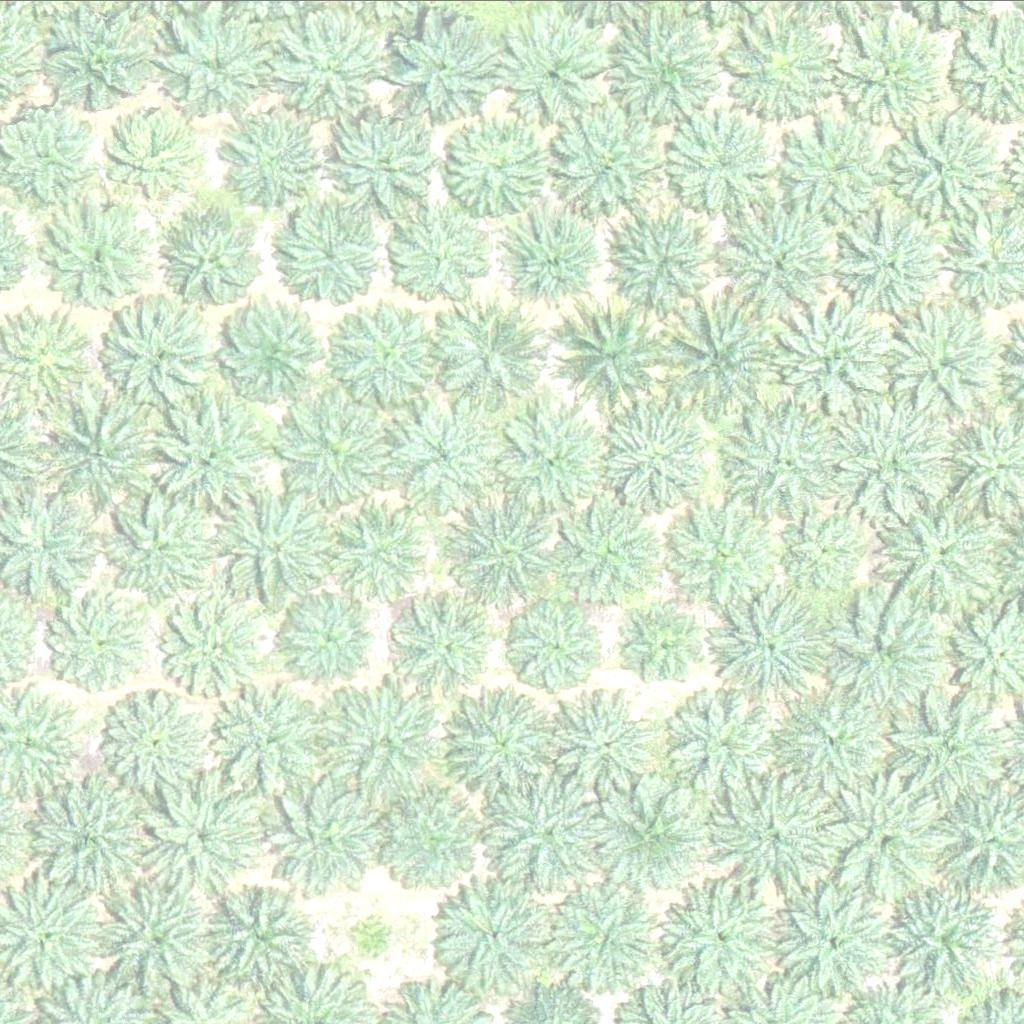Kelapa_Sawit: (490, 768, 616, 893), (100, 875, 226, 1000), (711, 775, 837, 900), (826, 779, 952, 904), (882, 483, 1008, 608), (729, 397, 855, 522), (604, 404, 718, 517), (447, 493, 561, 606), (777, 686, 891, 799), (670, 689, 784, 802), (104, 494, 217, 607), (46, 202, 159, 315), (617, 13, 730, 126), (326, 108, 439, 221), (555, 107, 668, 220), (219, 491, 332, 604), (598, 778, 711, 891), (552, 884, 665, 997), (434, 881, 547, 994), (212, 879, 325, 992), (898, 693, 1011, 806), (834, 403, 947, 516), (891, 306, 1004, 419), (787, 301, 900, 414), (47, 782, 161, 894), (103, 691, 217, 803), (209, 687, 323, 799), (327, 686, 441, 798), (148, 778, 262, 890), (273, 780, 387, 892), (718, 595, 832, 707), (832, 593, 946, 705), (43, 397, 156, 509), (102, 304, 215, 416), (46, 7, 159, 119), (503, 13, 616, 125), (386, 11, 499, 123), (278, 11, 391, 123), (160, 7, 273, 119), (614, 203, 727, 315), (333, 297, 446, 409), (433, 301, 546, 413), (558, 296, 671, 408), (388, 400, 501, 512), (286, 395, 399, 507), (152, 396, 265, 508), (442, 689, 555, 801), (883, 880, 996, 992), (780, 888, 893, 1000), (670, 883, 783, 995), (663, 301, 776, 413), (723, 206, 836, 318), (832, 210, 945, 322), (895, 111, 1008, 223), (46, 590, 147, 690), (446, 114, 547, 214), (505, 209, 606, 309), (391, 206, 492, 306), (285, 202, 386, 302), (164, 204, 265, 304), (225, 299, 326, 399), (170, 599, 271, 699), (556, 692, 657, 792), (380, 787, 481, 887), (680, 505, 781, 605), (779, 124, 880, 224), (670, 114, 771, 214), (728, 14, 829, 114), (845, 22, 946, 122), (499, 408, 599, 508), (337, 502, 437, 602), (559, 500, 659, 600), (515, 601, 603, 689), (410, 599, 498, 687), (113, 113, 201, 200), (226, 114, 314, 201), (290, 592, 378, 679), (630, 611, 706, 686), (789, 509, 865, 584), (351, 911, 401, 961)
